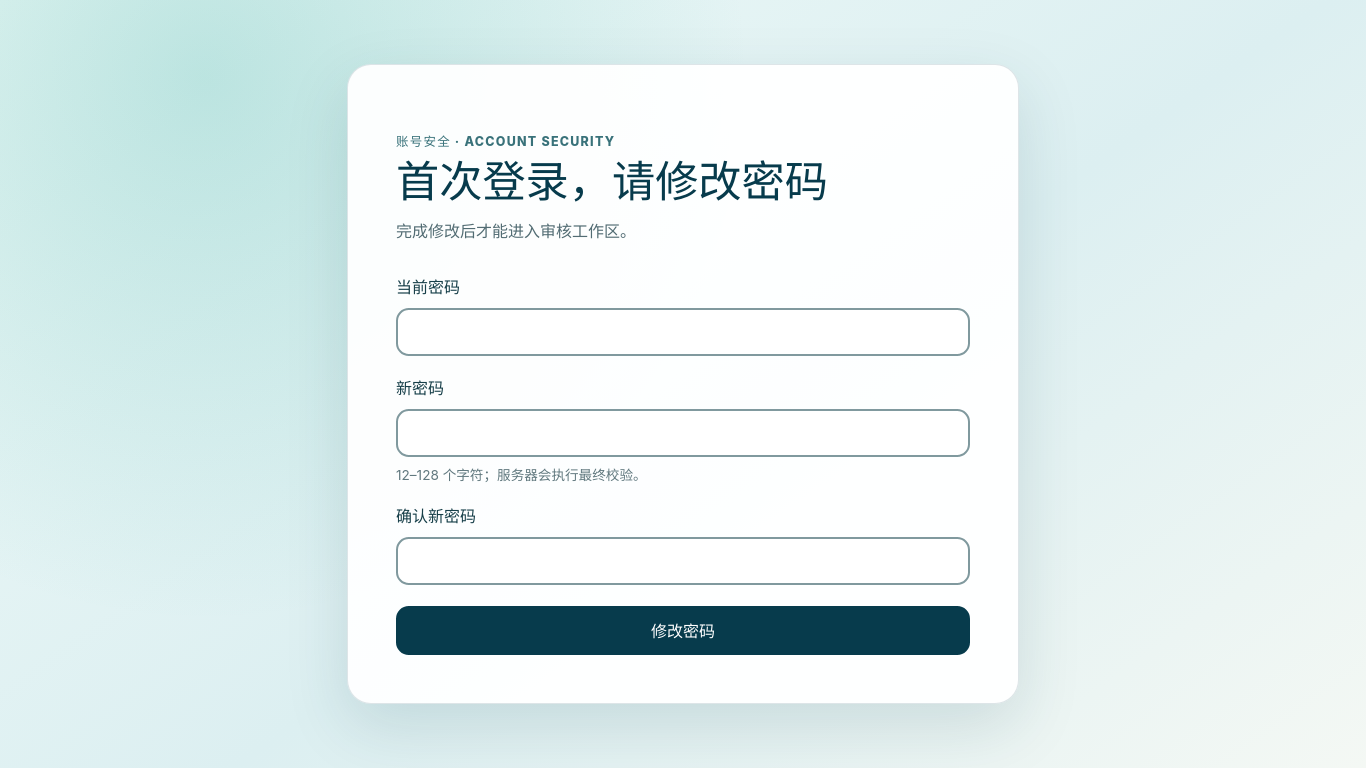
Test: production-shell integration › gates all work for a first-password change and returns to login after revocation
This screenshot has width=1366, height=768.
Check: the heading "首次登录，请修改密码" is shown, box left=396, top=155, right=828, bottom=207
In the password field labelled "当前密码": [683, 332] box left=396, top=308, right=970, bottom=356, type "temporary-password"
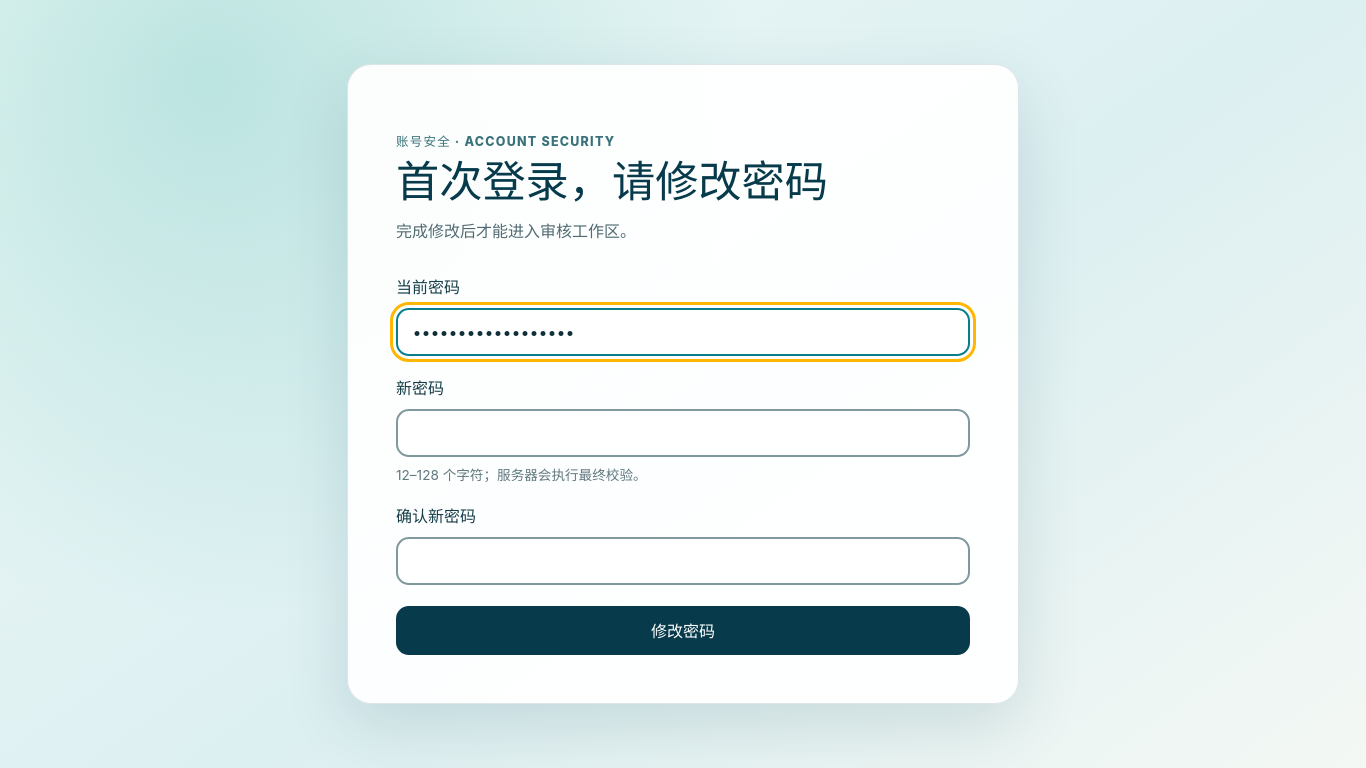
In the password field labelled "新密码": [683, 433] box left=396, top=409, right=970, bottom=457, type "new-password-12345"
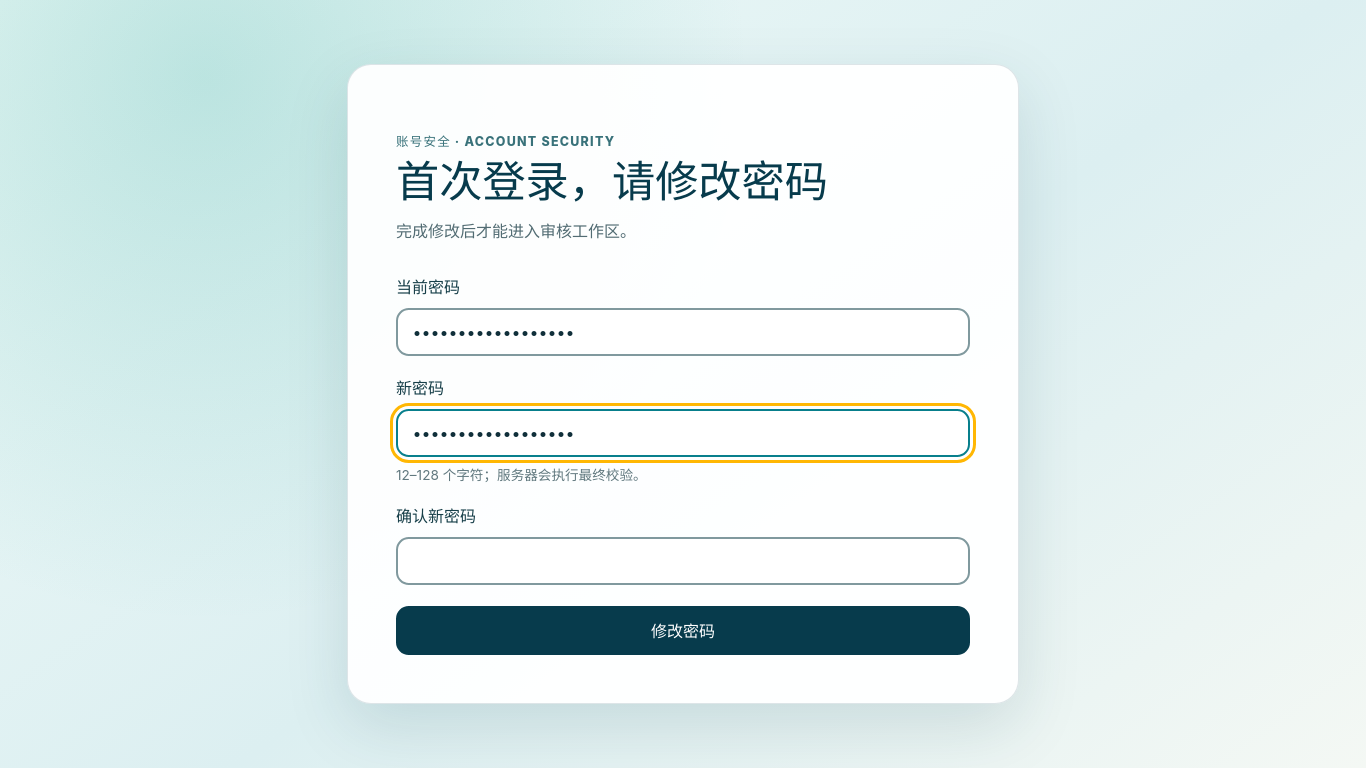
In the password field labelled "确认新密码": [683, 561] box left=396, top=537, right=970, bottom=585, type "new-password-12345"
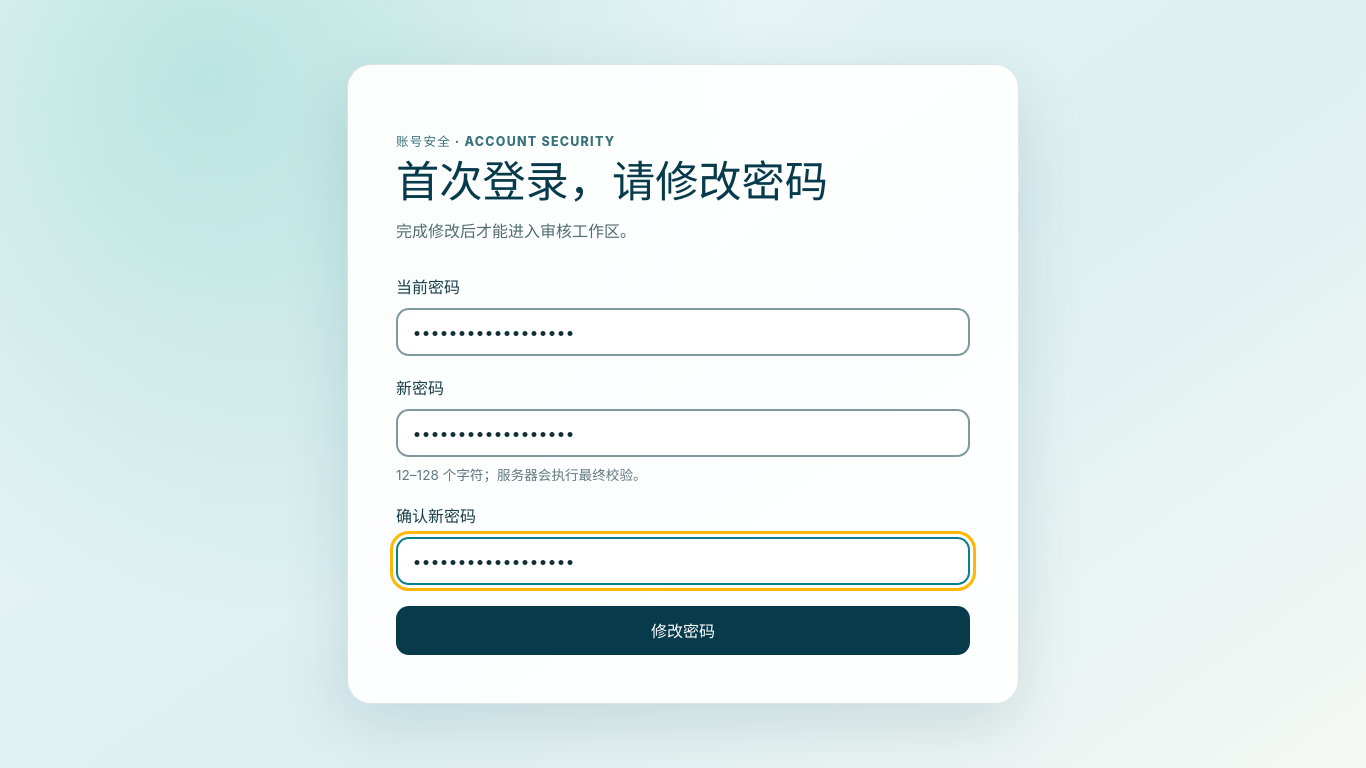
Click the button "修改密码": [683, 630] box left=396, top=606, right=970, bottom=655
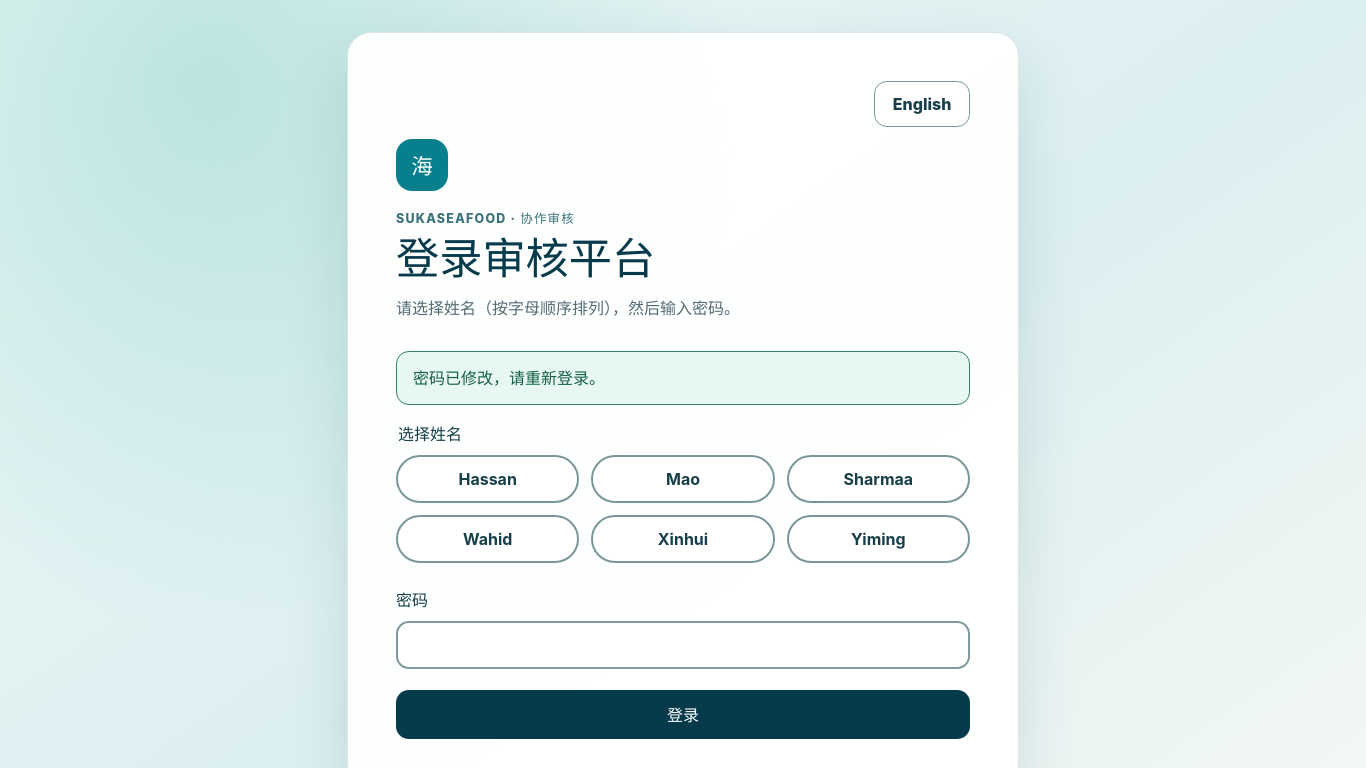
Check: the heading "登录审核平台" is shown, box left=396, top=232, right=655, bottom=284
Check: the text "密码已修改，请重新登录。" is shown, box left=396, top=351, right=970, bottom=404
